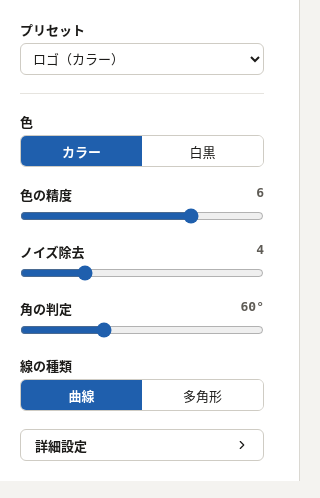
ParamsPanel › switches preset to 'カスタム' when curve type is changed
Expected: the dropdown labelled "プリセット" shows "ロゴ（カラー）", [20, 43, 264, 75]
Step 1. Click the button "多角形" → (202, 395), box [142, 380, 263, 410]
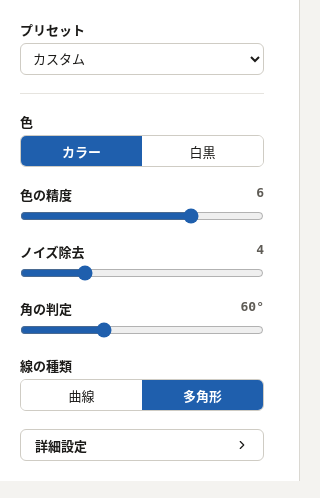
Expected: the dropdown labelled "プリセット" shows "カスタム", [20, 43, 264, 75]
